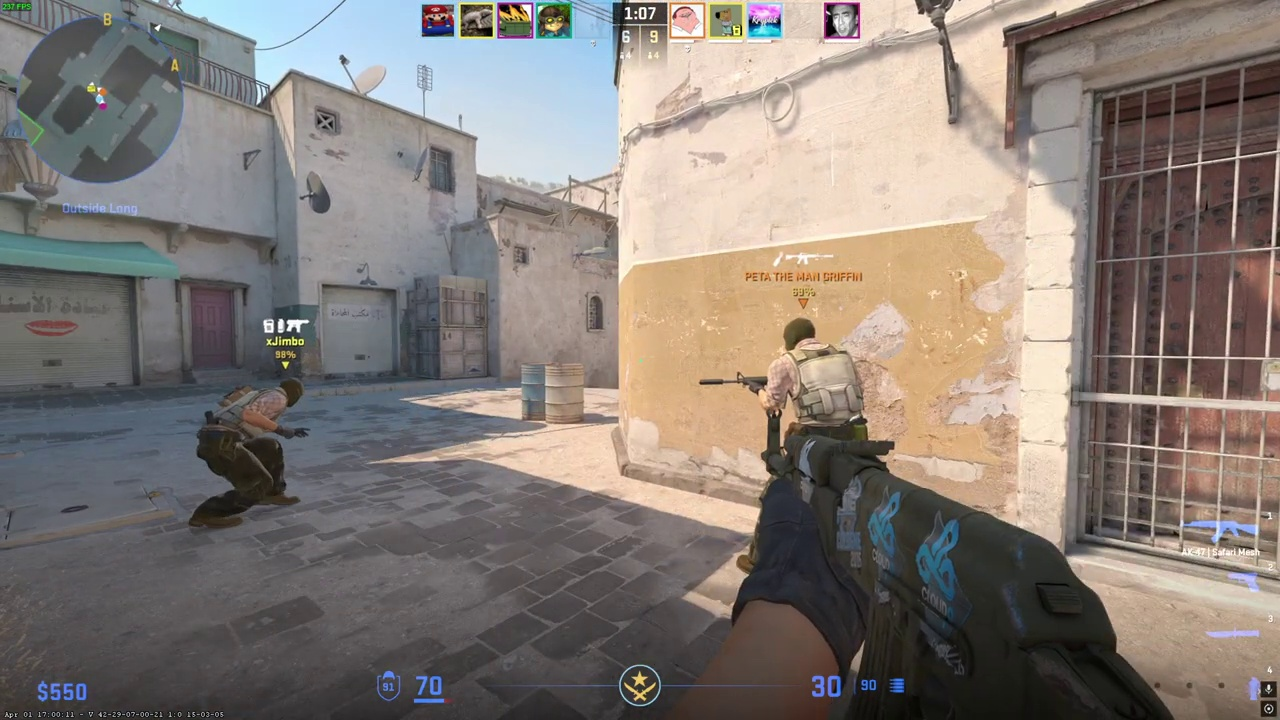Terrorist: (197, 374, 302, 529), (762, 317, 865, 441)
